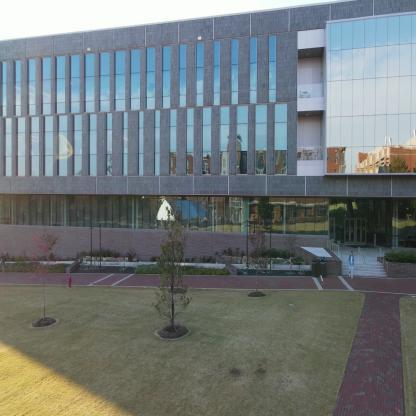Fitts- Woolard: (2, 11, 415, 301)
